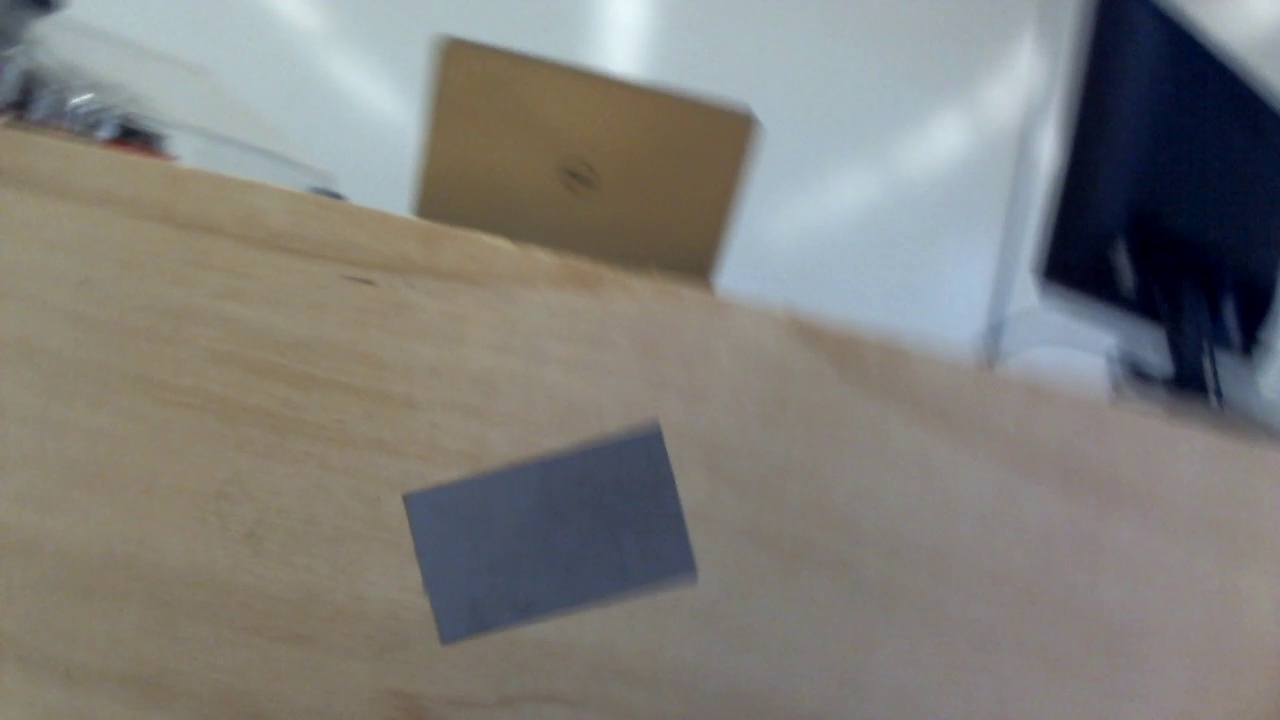Tape: (401, 424, 698, 646)
